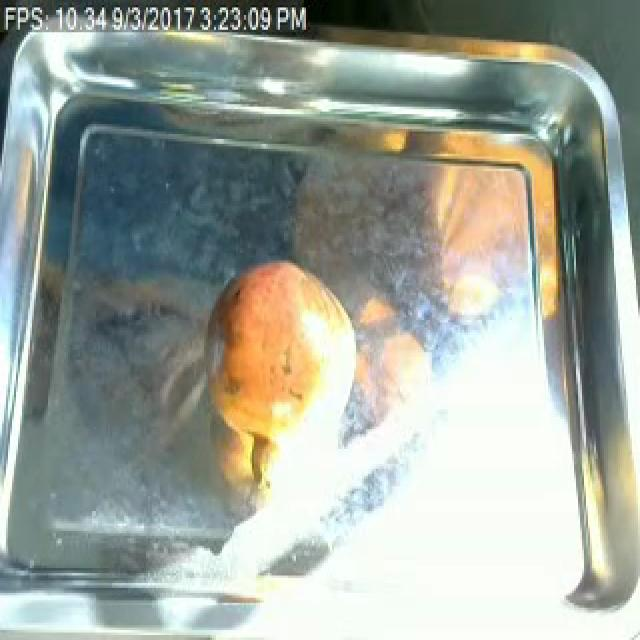fruit: (192, 246, 370, 467)
